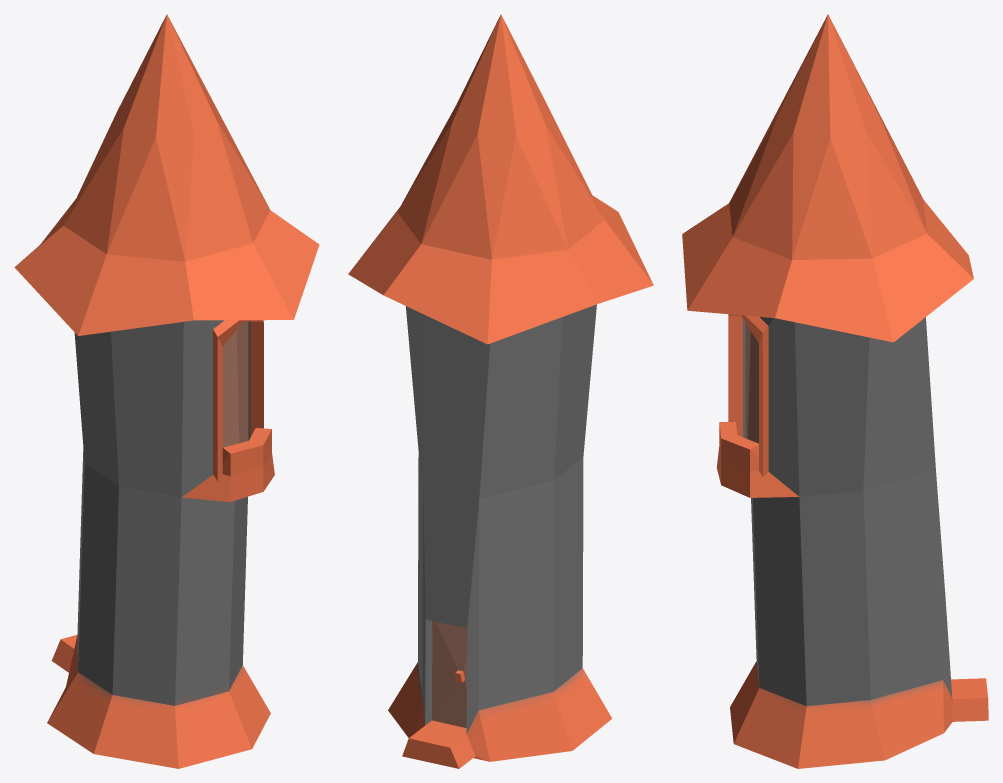
The model's file is tower.fbx.
3 views of the same model, side by side, from view 1: azimuth 30°, elevation 25°; view 2: azimuth 150°, elevation 25°; view 3: azimuth 270°, elevation 25° (orthographic).
Visible parts, largest first — view 1: Tower; view 2: Tower; view 3: Tower.
Part boxes in pixels (left/top/right/bottom): Tower: left=14, top=14, right=319, bottom=768; Tower: left=348, top=14, right=653, bottom=768; Tower: left=682, top=14, right=988, bottom=768.
Bounding box in the file's own units: 980 × 2638 × 1030.
